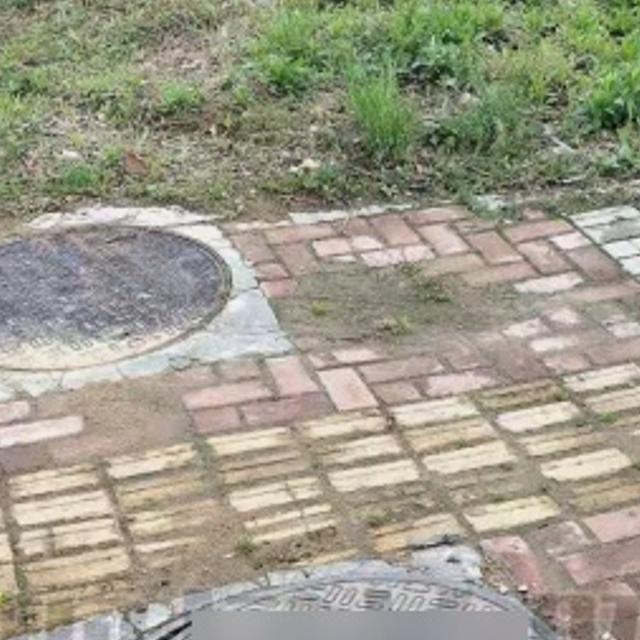good: (0, 225, 232, 368)
uncovered: (47, 572, 603, 640)
